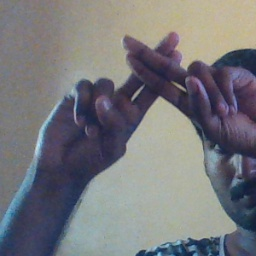F: (79, 19, 230, 131)
